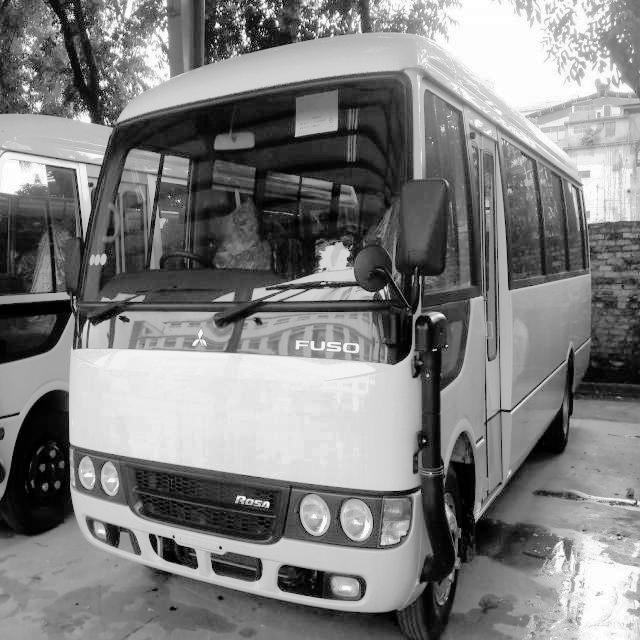Bus: (59, 12, 608, 640)
